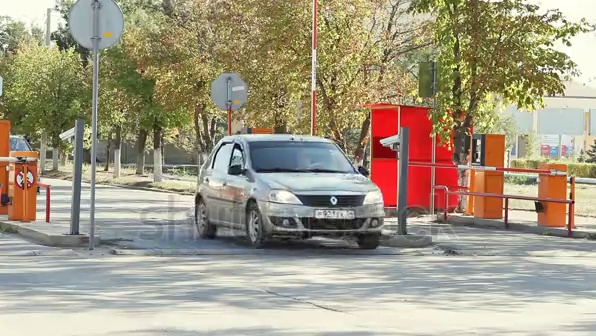licenseplate: (310, 211, 360, 220)
